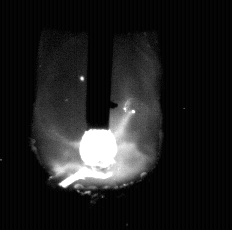arame: (86, 0, 110, 130)
poca: (31, 0, 164, 230)
